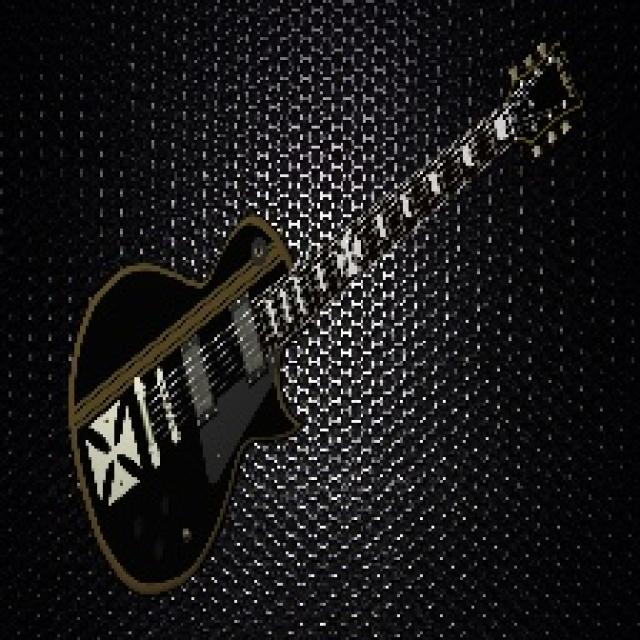guitar: (65, 42, 595, 598)
